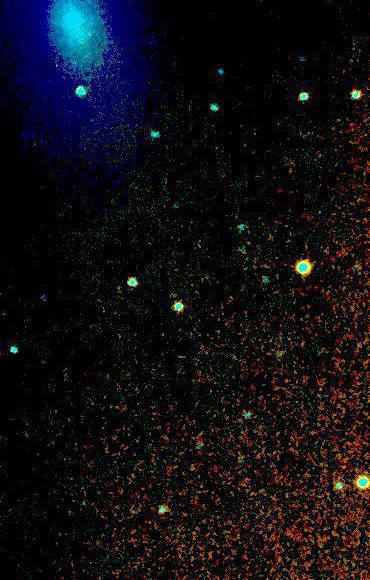star: (74, 18, 104, 48)
